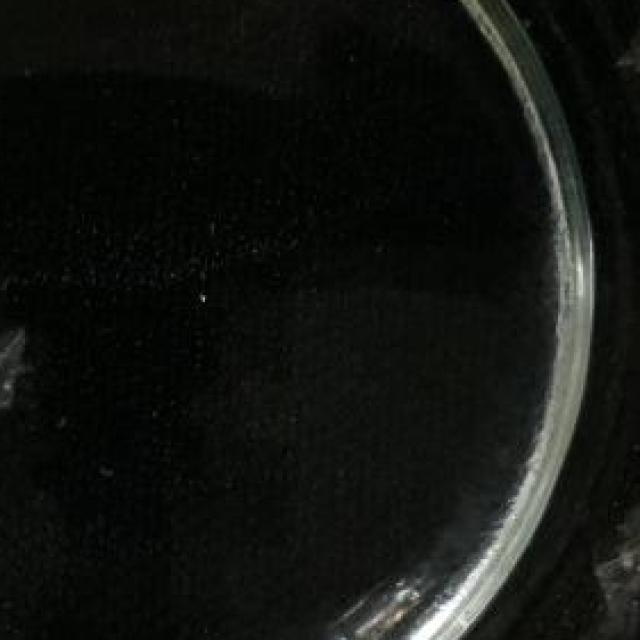Microplastic: (590, 392, 640, 640), (0, 298, 50, 417)
